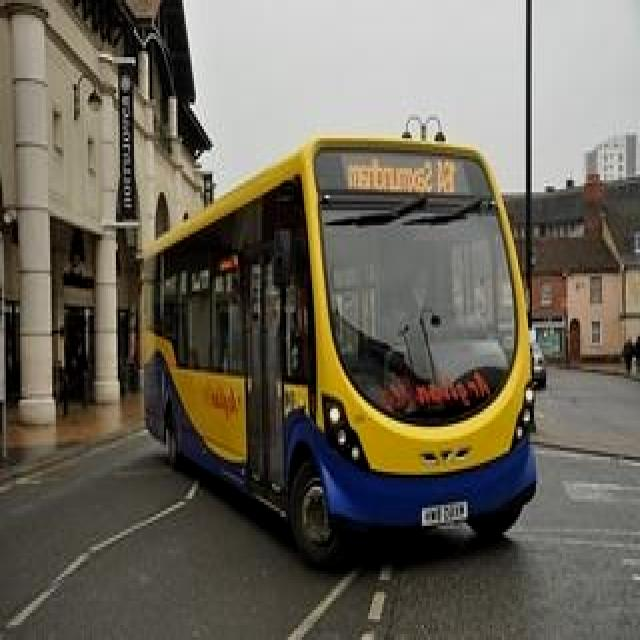Bus: (111, 118, 587, 590)
